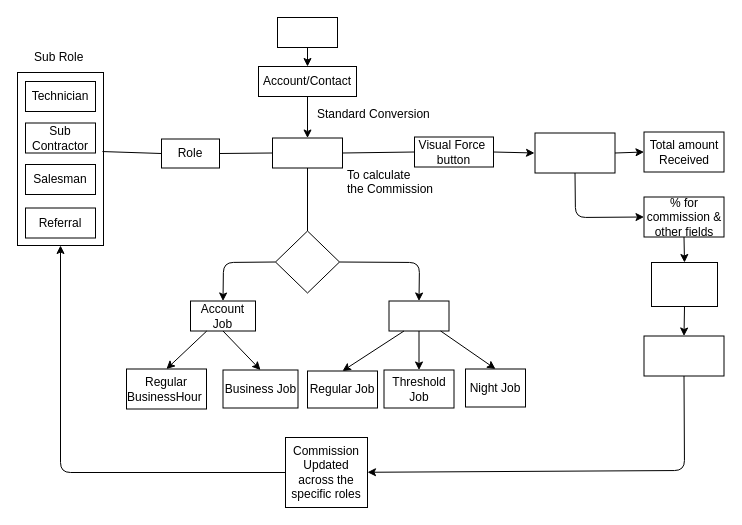
This 742x525 diagram has some shape labels left out. The shapes that lost their labels are listed below. From the top down, each one's box as (x1, y1, x2, y2) in pixels, then its label:
(276, 16, 338, 48): Lead
(272, 137, 342, 168): Opportunity
(534, 132, 615, 173): User Input
(274, 230, 340, 293): Job type
(650, 262, 718, 306): Calculate Commission button
(388, 300, 449, 331): COD Job
(643, 335, 724, 376): Net profit calculated from backend
